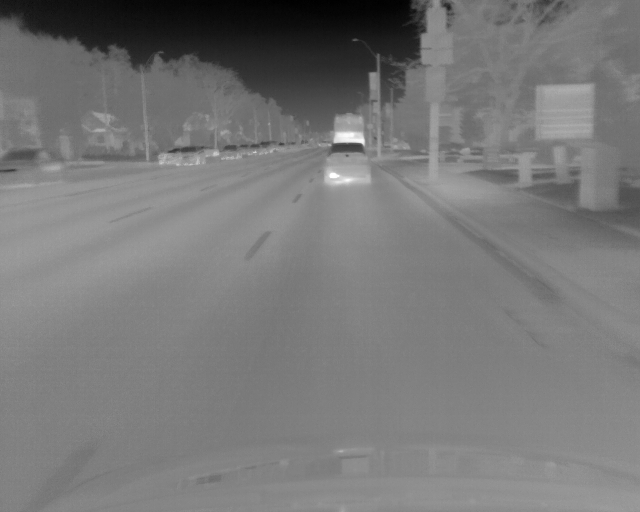car: (1, 148, 64, 187), (325, 142, 370, 183), (332, 113, 364, 145), (179, 145, 204, 166), (156, 147, 180, 167), (220, 143, 242, 161), (249, 143, 262, 155)
